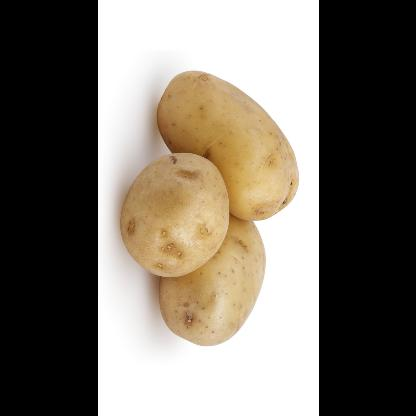potato: (157, 70, 299, 220), (160, 212, 266, 345), (120, 153, 230, 277)
